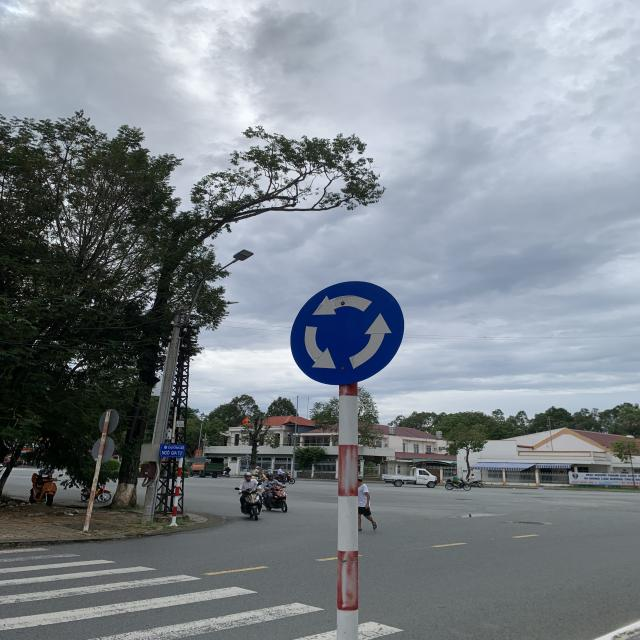Xe_Bus: (290, 280, 406, 385)
